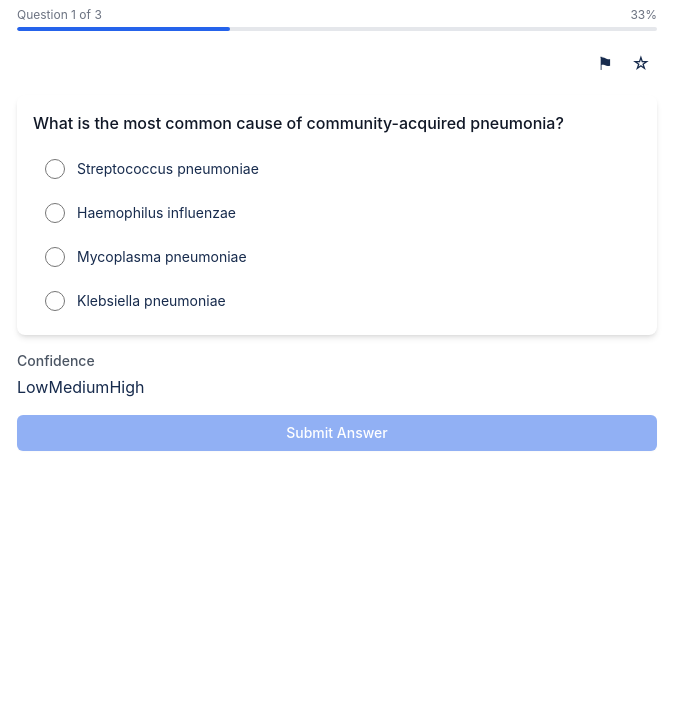
Scenario: AnswerFeedback — ECG findings › shows ECG findings grouped by category when present
Expected: the text with test id "question-stem" is shown, [33,111,641,135]
Click the radio button showing "o1".
click(55, 169)  # box [45,159,65,179]
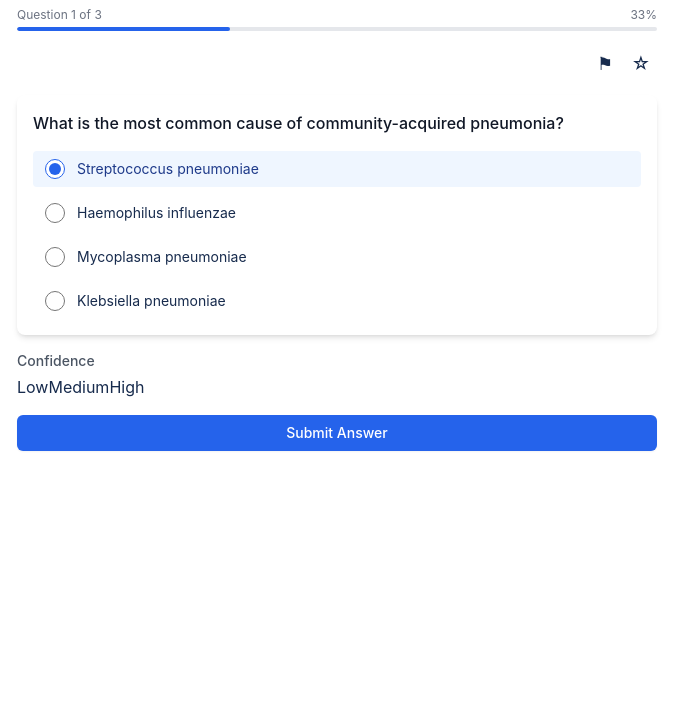
Click the button with test id "submit-button".
click(337, 433)  # box [17,415,657,451]
(page scrolled)
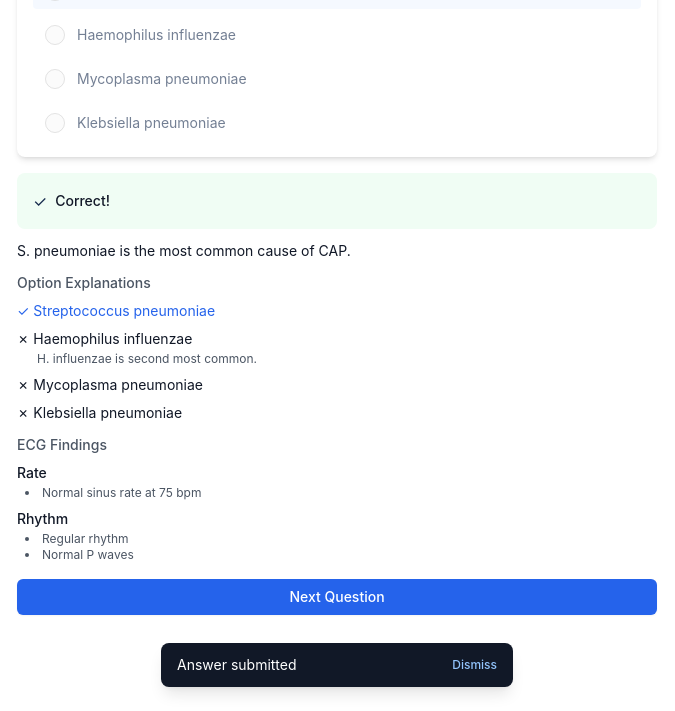
Expected: the element with test id "ecg-findings" is shown, [17,436,202,562]
Expected: the text "Rate" is shown, [17,464,47,481]
Expected: the list item "Normal sinus rate at 75 bpm" is shown, [42,485,202,500]
